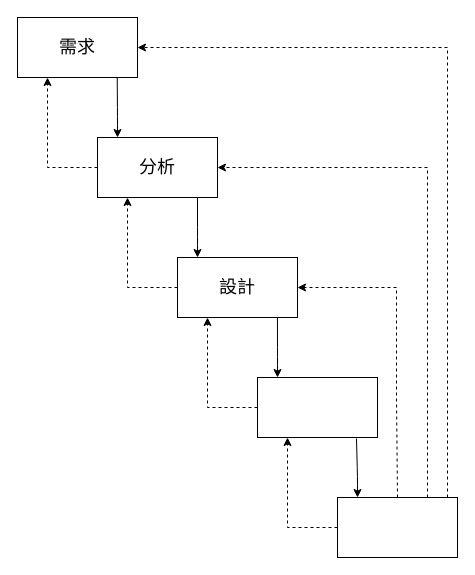
This 475x575 diagram has some shape labels left out. Here are the shapes that lost their labels. From the top down, the centre of each, then its label:
At [317,407]: "製作".
At [397,527]: "維護".
